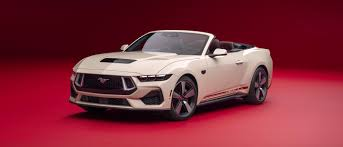car: (67, 28, 275, 121)
